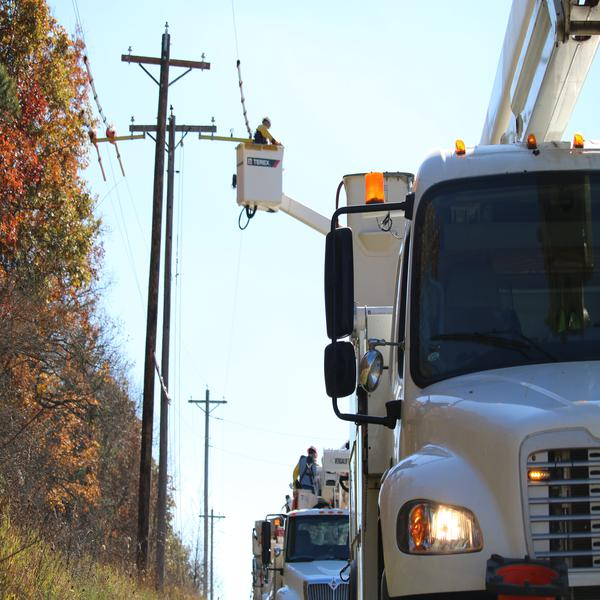utility_pole: (128, 95, 222, 197), (116, 16, 216, 111), (184, 381, 231, 431)
